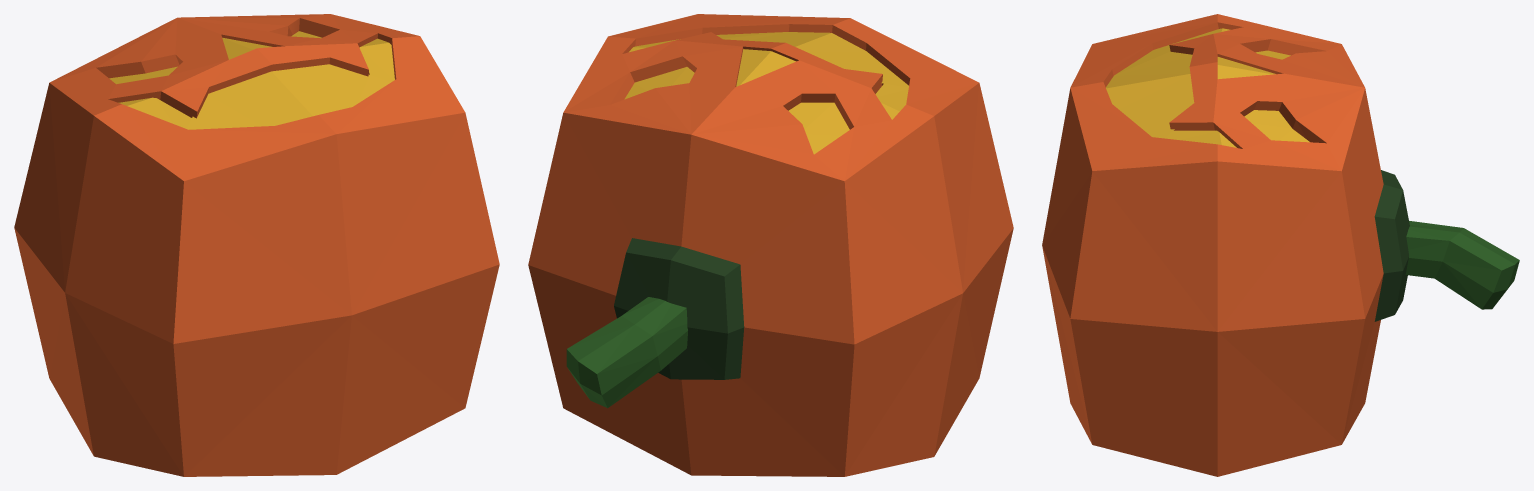
Rendered from pump.fbx.
The picture shows the model from 3 angles, left to right: view 1: azimuth 30°, elevation 25°; view 2: azimuth 150°, elevation 25°; view 3: azimuth 270°, elevation 25°; orthographic projection. The views are drawn at different scales.
Parts seen in each view (by area): view 1: pump; view 2: pump; view 3: pump.
Part boxes in pixels (<box>): pump: <box>14,14,499,476</box>; pump: <box>528,14,1013,476</box>; pump: <box>1042,14,1519,476</box>.
Size of the model in its own units: 181 by 180 by 211.
